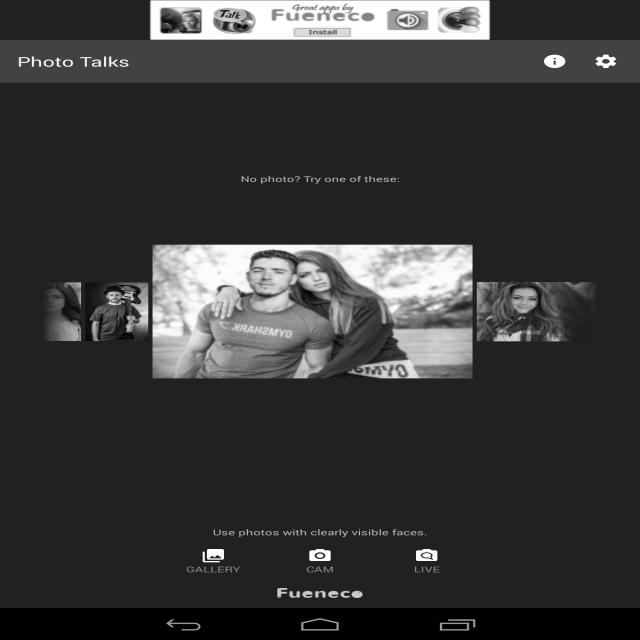Button: (277, 541, 363, 581), (171, 541, 256, 581), (384, 541, 469, 581)
ImageButton: (277, 588, 363, 598)
ImageView: (150, 243, 475, 380), (149, 0, 491, 40), (474, 280, 620, 342), (16, 280, 83, 342), (84, 280, 150, 342)
TextView: (213, 526, 427, 538), (17, 52, 130, 70), (240, 173, 400, 184), (580, 46, 632, 78), (529, 46, 580, 78)
